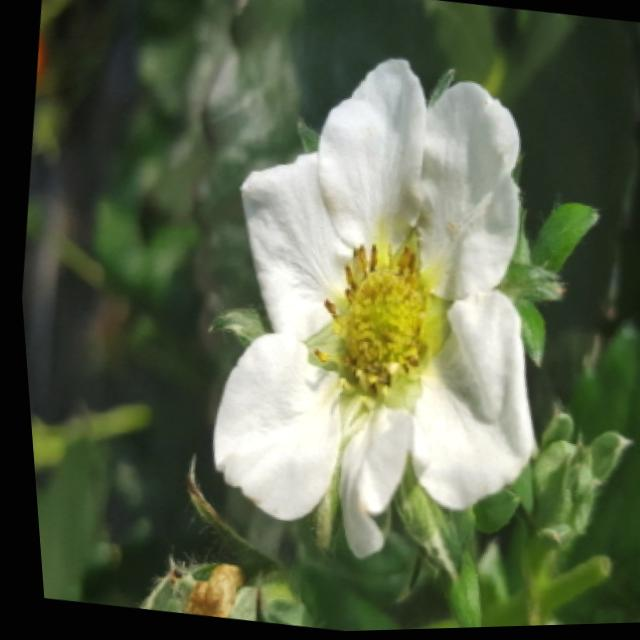Blossom Blight: (292, 224, 453, 426)
